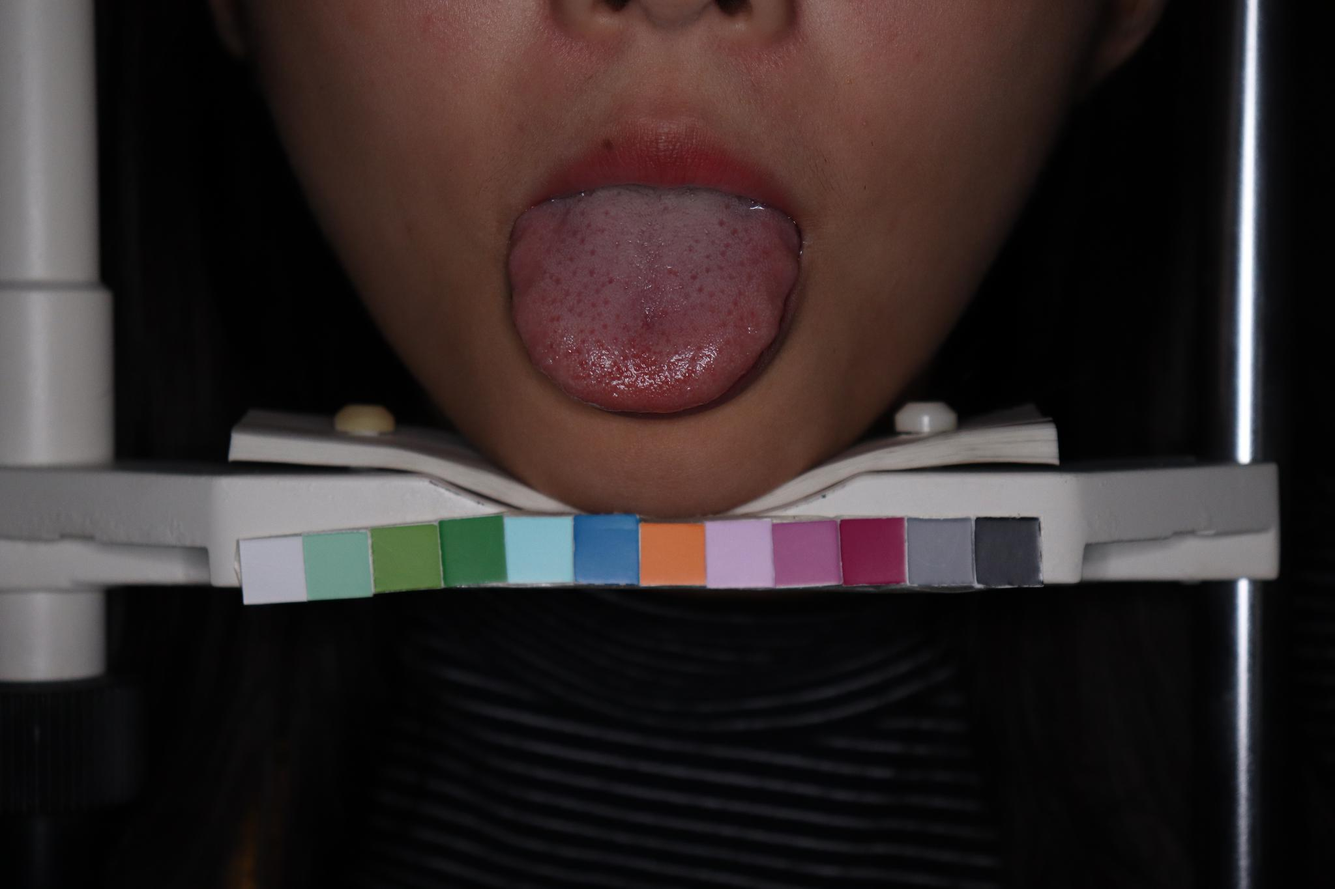baitaishe: (508, 184, 801, 412)
chihenshe: (759, 258, 799, 319)
hongdianshe: (689, 270, 699, 281), (579, 336, 589, 346), (606, 275, 615, 285), (579, 358, 587, 367), (739, 313, 744, 322)
